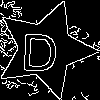D: (20, 24, 59, 71)
